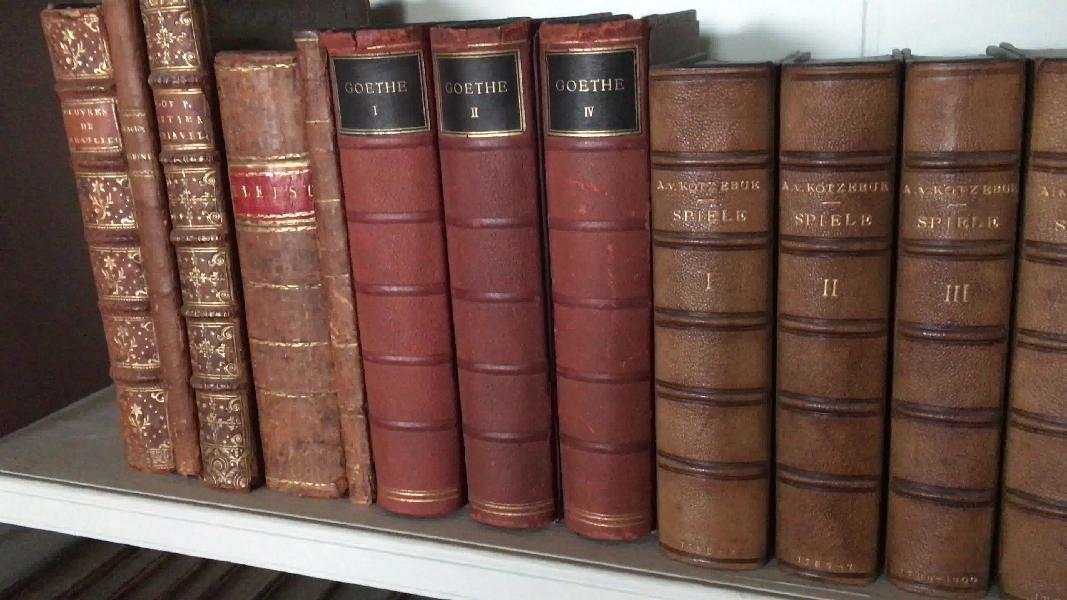Aa6-10: (289, 21, 382, 511)
Aa6-11_13: (316, 17, 665, 539)
Aa6-14_17: (643, 62, 1063, 600)
Aa6-6: (32, 4, 182, 479)
Aa6-7: (101, 5, 202, 481)
Aa6-8: (135, 1, 258, 501)
Aa6-9: (205, 42, 355, 502)
